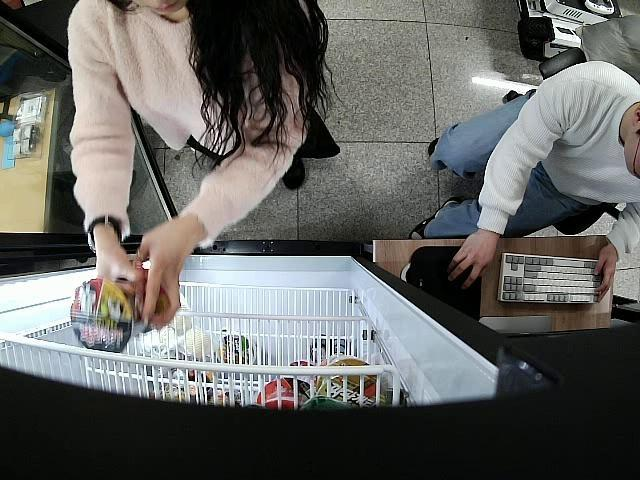08_buldak_S: (69, 274, 152, 352)
